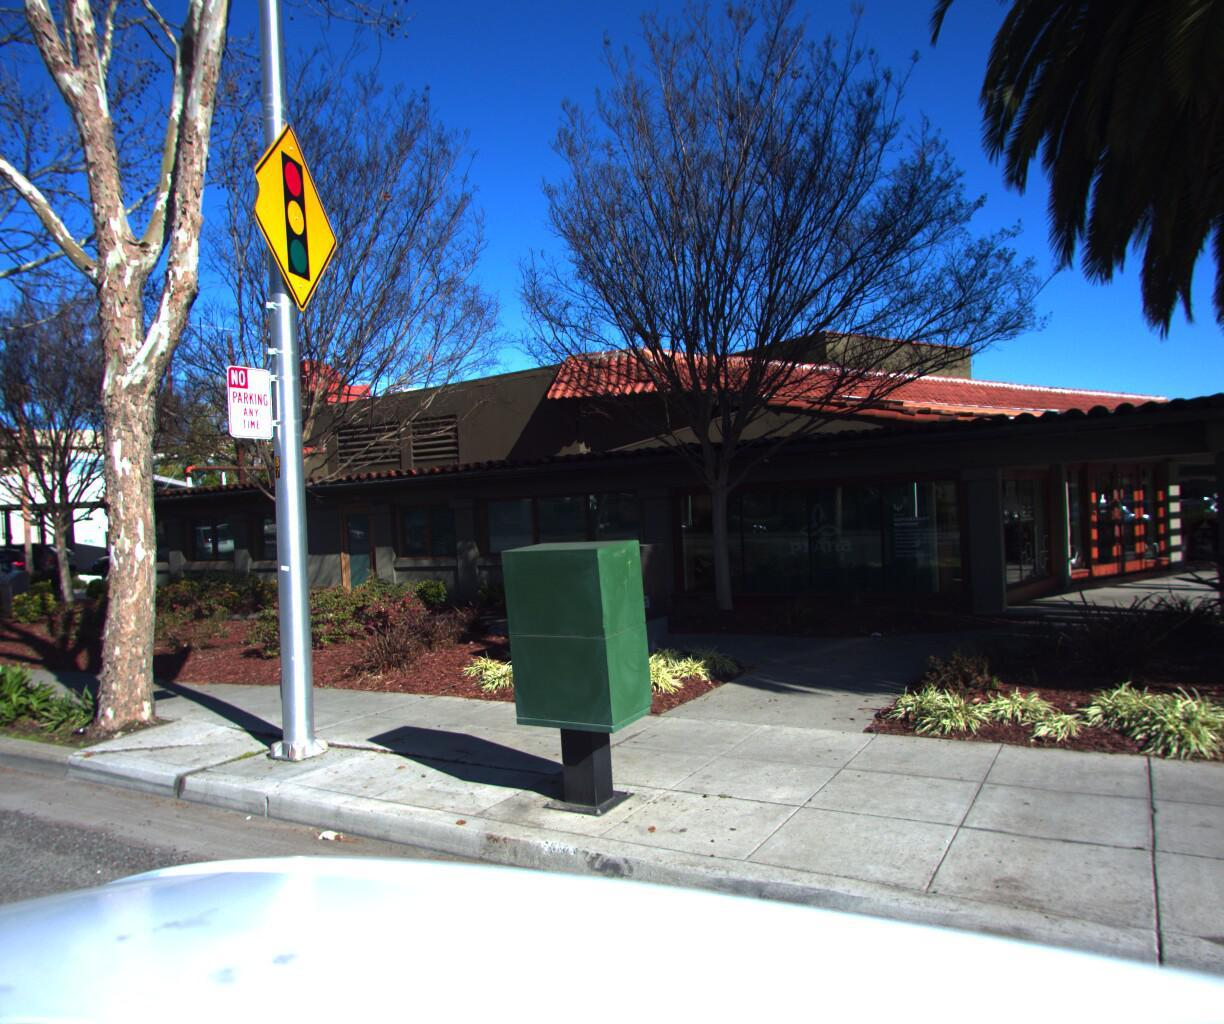car: (90, 533, 211, 568), (0, 533, 75, 574), (0, 540, 42, 584)
